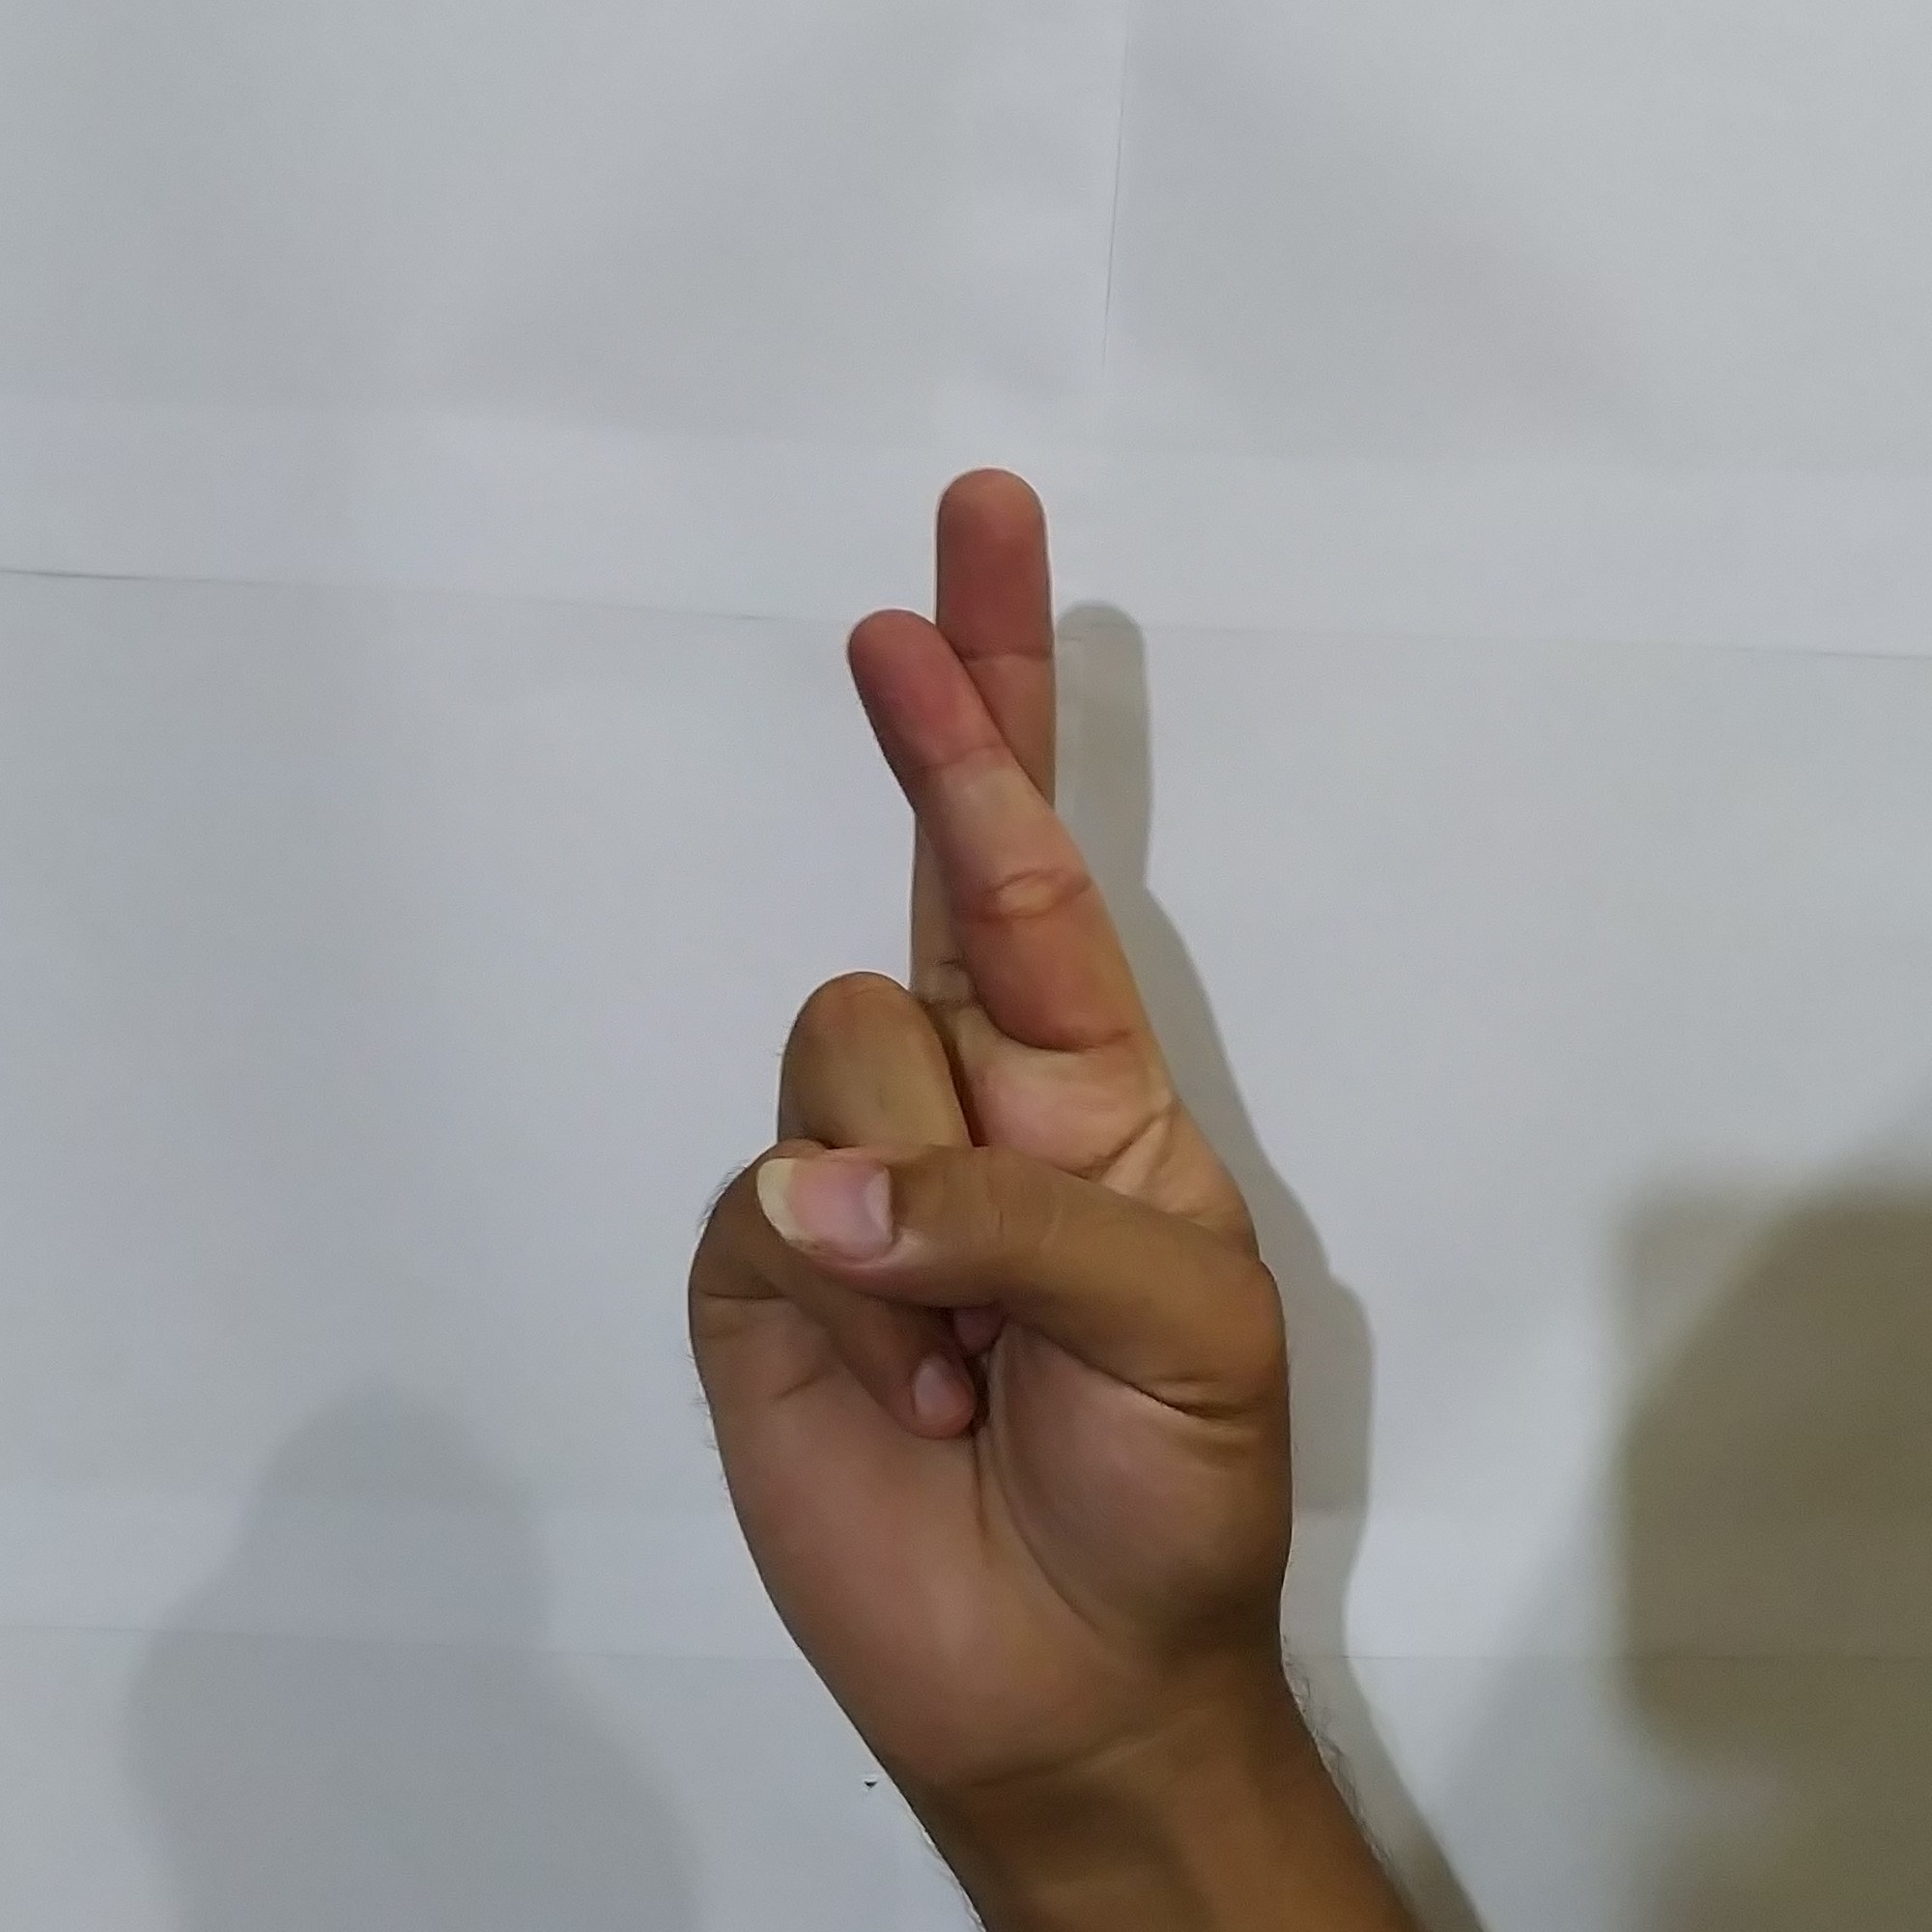R: (648, 441, 1322, 1764)
